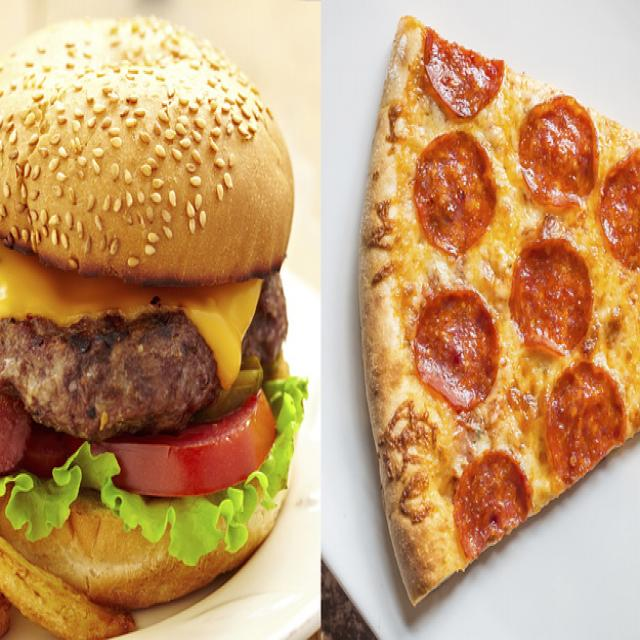burger: (0, 12, 293, 609)
pizza: (356, 13, 640, 610)
